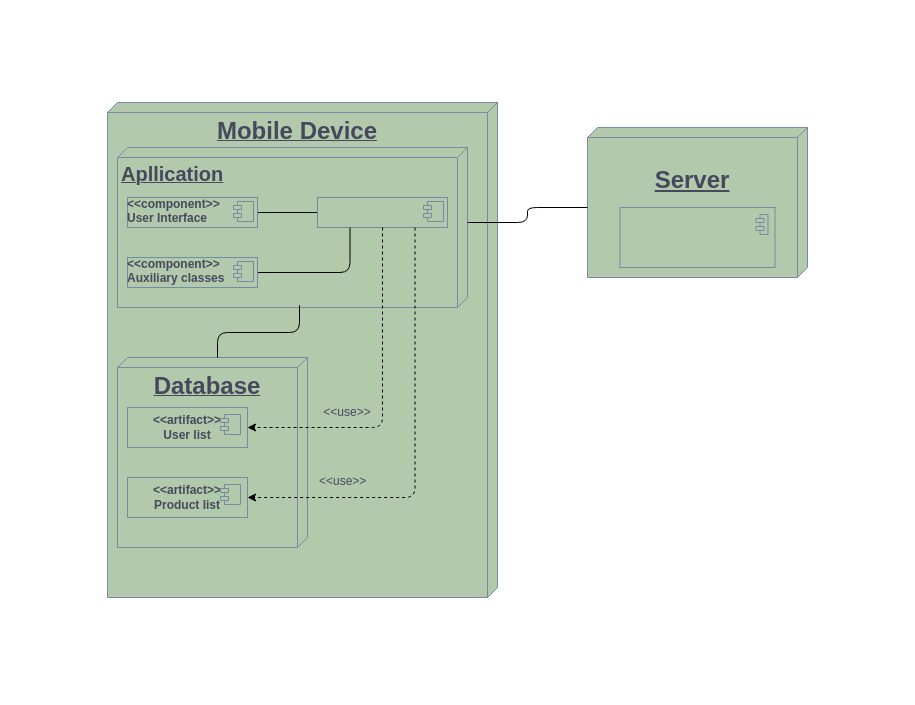
This 915x705 diagram has some shape labels left out. The centre of each missing label's shape, as x and y in pixels:
"<<component>> Database" belongs at (x=697, y=237).
"<<component>> Service" belongs at (x=382, y=212).
